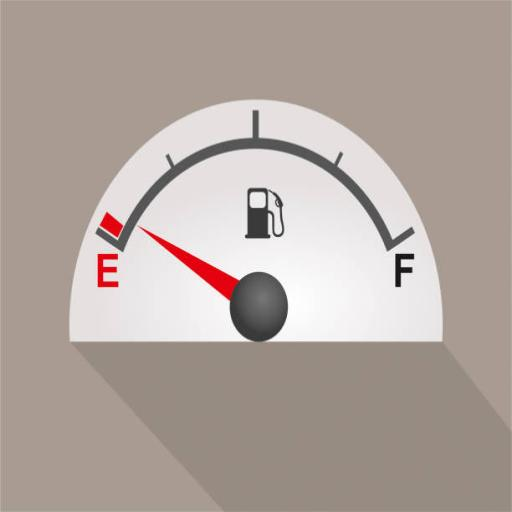empty: (91, 248, 122, 293)
fuel_icon: (240, 177, 289, 247)
full: (388, 250, 420, 294)
guage_area: (59, 83, 483, 361)
needle_center: (222, 264, 300, 344)
needle_tip: (132, 222, 167, 254)
